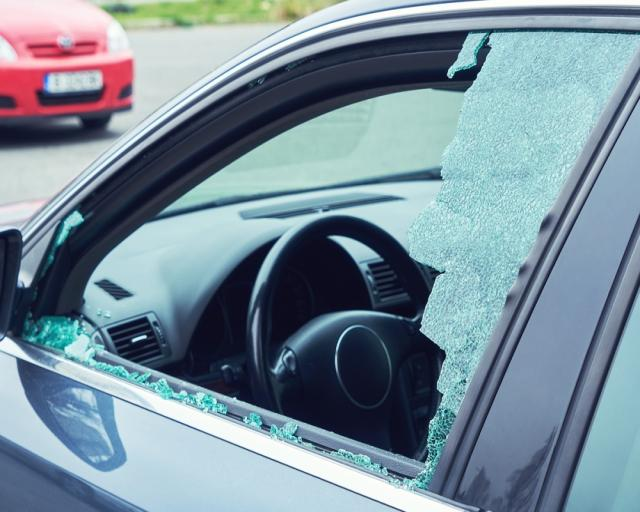glass shatter: (12, 29, 640, 489)
